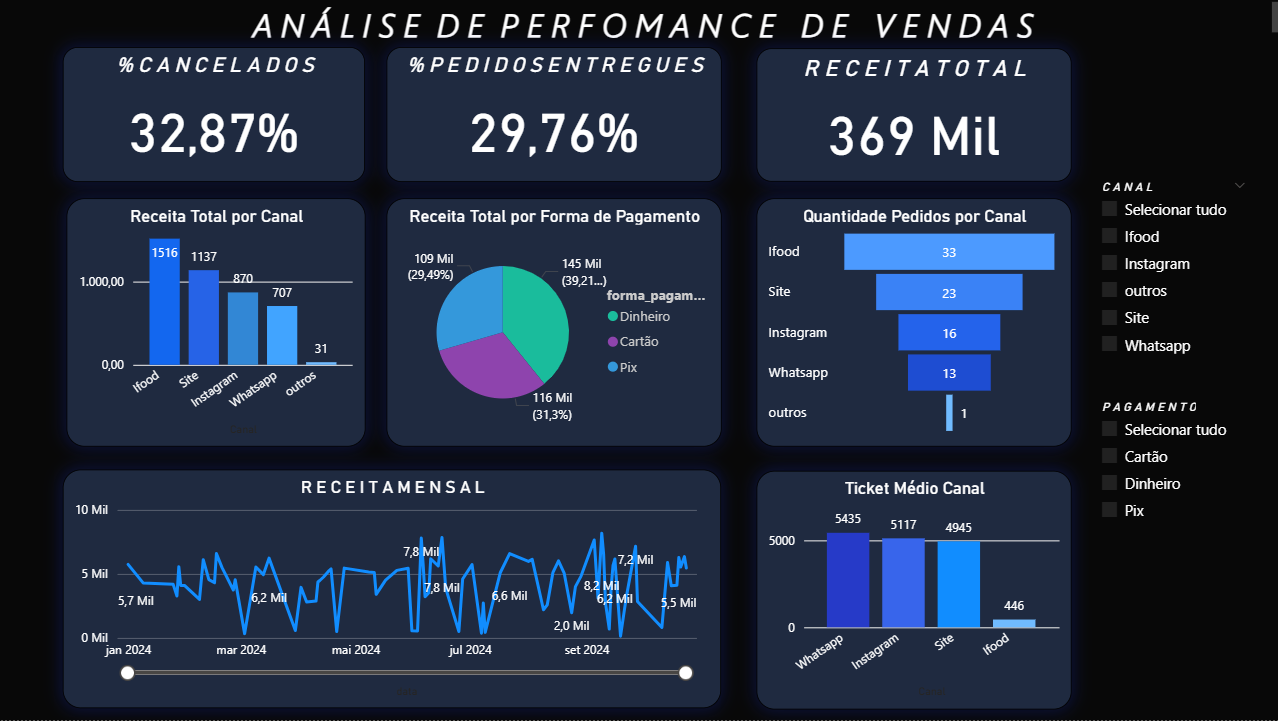

The dashboard page shown, as its layout file describes it:
{"tool":"powerbi","page":{"name":"Página 1","canvas":[1280,720],"ordinal":0},"visuals":[{"type":"textbox","box":[10,0,1270.1,46],"z":0},{"type":"clusteredColumnChart","title":"Receita Total por Canal","fields":{"Category":["total1.Canal"],"Y":["Sum(total1.Receita Corrigida)"]},"box":[67.2,200.3,297.3,247.5],"z":1000},{"type":"pieChart","title":"Receita Total por Forma de Pagamento","fields":{"Category":["dados2 limpos limpos.forma_pagamento"],"Y":["Sum(dados2 limpos limpos.valor)"]},"box":[385.6,200.3,333.4,247.5],"z":2000},{"type":"funnel","title":"Quantidade Pedidos por Canal","fields":{"Y":["dados2 limpos limpos.quantidade_pedidos_por_canal"],"Category":["dados2 limpos limpos.canal"]},"box":[753.8,200.3,313.5,247.5],"z":3000},{"type":"card","title":"% C A N C E L A D O S","fields":{"Values":["dados2 limpos.% Cancelados"]},"box":[63.4,49.8,301,134.3],"z":4000},{"type":"card","title":"% P E D I D O S  E N T R E G U E S ","fields":{"Values":["dados2 limpos.% Entregues"]},"box":[385.6,49.8,333.4,134.3],"z":5000},{"type":"clusteredColumnChart","title":"Ticket Médio Canal","fields":{"Category":["ticket_medio.Canal"],"Y":["Sum(ticket_medio.Ticket Medio)"]},"box":[753.8,471.5,313.5,237.6],"z":6000},{"type":"card","title":"R E C E I T A    T O T A L","fields":{"Values":["Sum(dados2 limpos limpos.valor)"]},"box":[753.8,51,313.5,133.1],"z":7000},{"type":"stackedAreaChart","title":"  R E C E I T A  M E N S A  L","fields":{"Y":["Sum(dados2 limpos limpos.valor)"],"Category":["dados2 limpos limpos.data"]},"box":[63.4,470.2,655.6,237.6],"z":8000},{"type":"slicer","fields":{"Values":["dados2 limpos limpos.canal"]},"box":[1084.7,176.6,167.9,218.9],"z":9000},{"type":"slicer","fields":{"Values":["dados2 limpos limpos.forma_pagamento"]},"box":[1084.7,395.6,167.9,212.7],"z":9001}]}

Visuals, with their boxes in screenshot pixels (x1, y1, x2, y2), scaled from the page's 1280x720 canvas onto the 1278x721 screenshot:
textbox: select_region(10, 0, 1277, 46)
"Receita Total por Canal" clusteredColumnChart: select_region(67, 201, 364, 448)
"Receita Total por Forma de Pagamento" pieChart: select_region(385, 201, 718, 448)
"Quantidade Pedidos por Canal" funnel: select_region(753, 201, 1066, 448)
"% C A N C E L A D O S" card: select_region(63, 50, 364, 184)
"% P E D I D O S  E N T R E G U E S " card: select_region(385, 50, 718, 184)
"Ticket Médio Canal" clusteredColumnChart: select_region(753, 472, 1066, 710)
"R E C E I T A    T O T A L" card: select_region(753, 51, 1066, 184)
"  R E C E I T A  M E N S A  L" stackedAreaChart: select_region(63, 471, 718, 709)
slicer - dados2 limpos limpos.canal: select_region(1083, 177, 1251, 396)
slicer - dados2 limpos limpos.forma_pagamento: select_region(1083, 396, 1251, 609)
